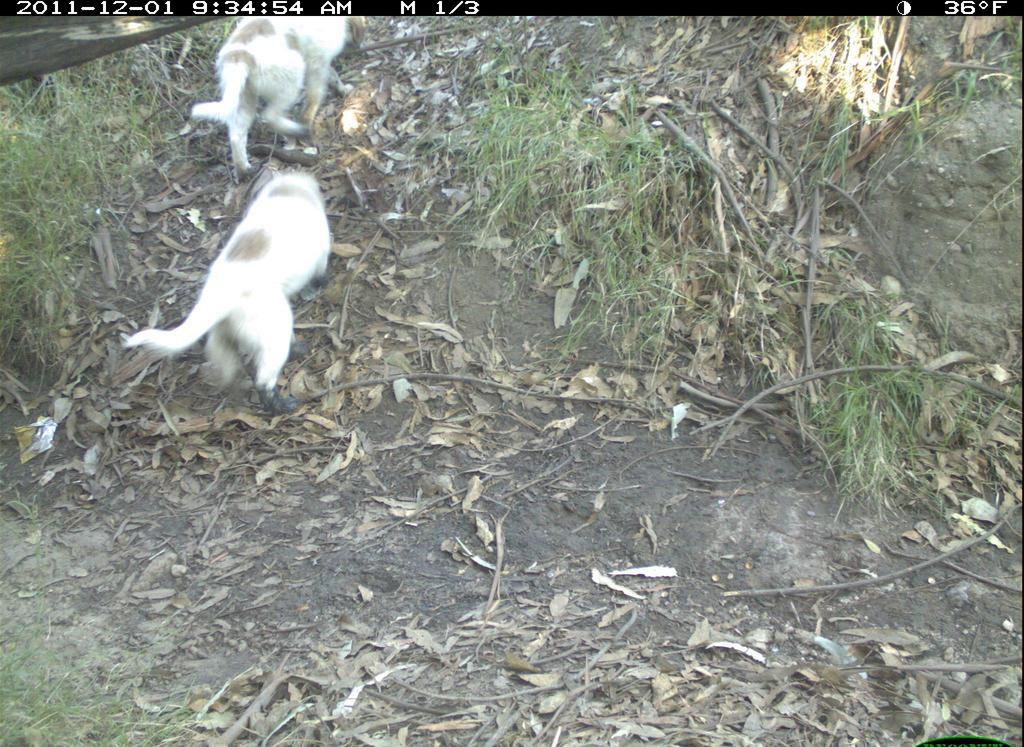dog: (103, 149, 354, 423)
